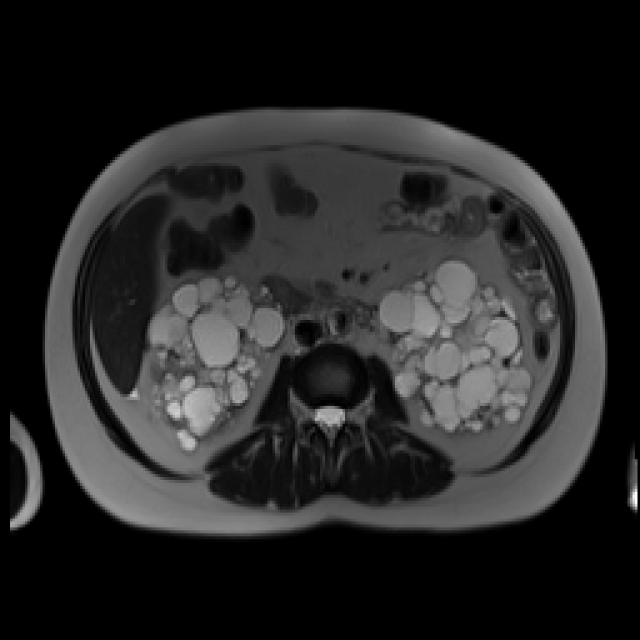sag: (144, 269, 286, 451)
sol: (374, 256, 534, 439)
